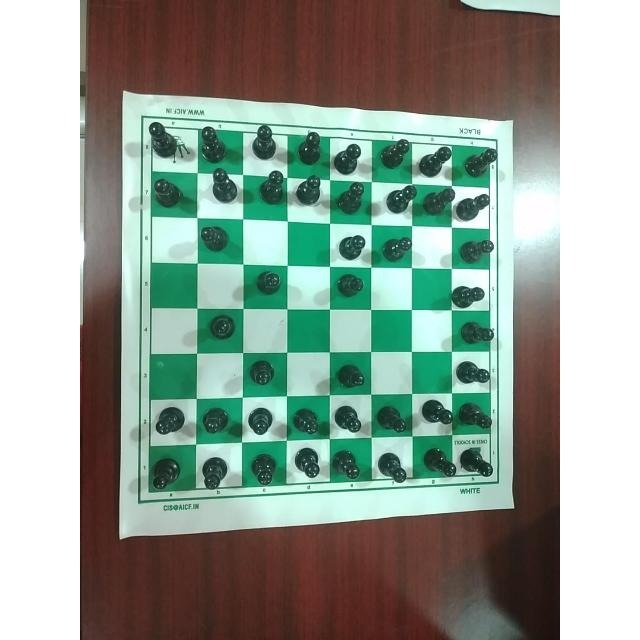black-pawn: (193, 119, 238, 165), (245, 263, 289, 309), (142, 117, 185, 163), (457, 438, 499, 485), (461, 134, 501, 182), (203, 161, 245, 205), (327, 351, 371, 393), (419, 443, 461, 485), (201, 308, 244, 349), (147, 450, 187, 494), (454, 315, 502, 351), (243, 446, 282, 490), (374, 446, 416, 486), (146, 400, 186, 441), (196, 400, 235, 442), (454, 356, 498, 393), (381, 182, 422, 221), (149, 170, 185, 214), (294, 122, 326, 170), (336, 222, 370, 267), (381, 128, 414, 174), (255, 165, 289, 209), (248, 121, 284, 162), (419, 392, 455, 433), (198, 449, 230, 495), (452, 277, 492, 313), (375, 399, 411, 439), (333, 135, 365, 179), (455, 398, 494, 434), (292, 441, 328, 480), (198, 219, 230, 261), (248, 356, 284, 393), (331, 403, 368, 439), (456, 233, 492, 269), (334, 269, 370, 305), (245, 399, 281, 435), (421, 134, 449, 180), (289, 403, 324, 439), (334, 443, 364, 485), (455, 187, 492, 221), (382, 227, 416, 264), (337, 180, 367, 219), (426, 183, 458, 219), (296, 173, 324, 213)
